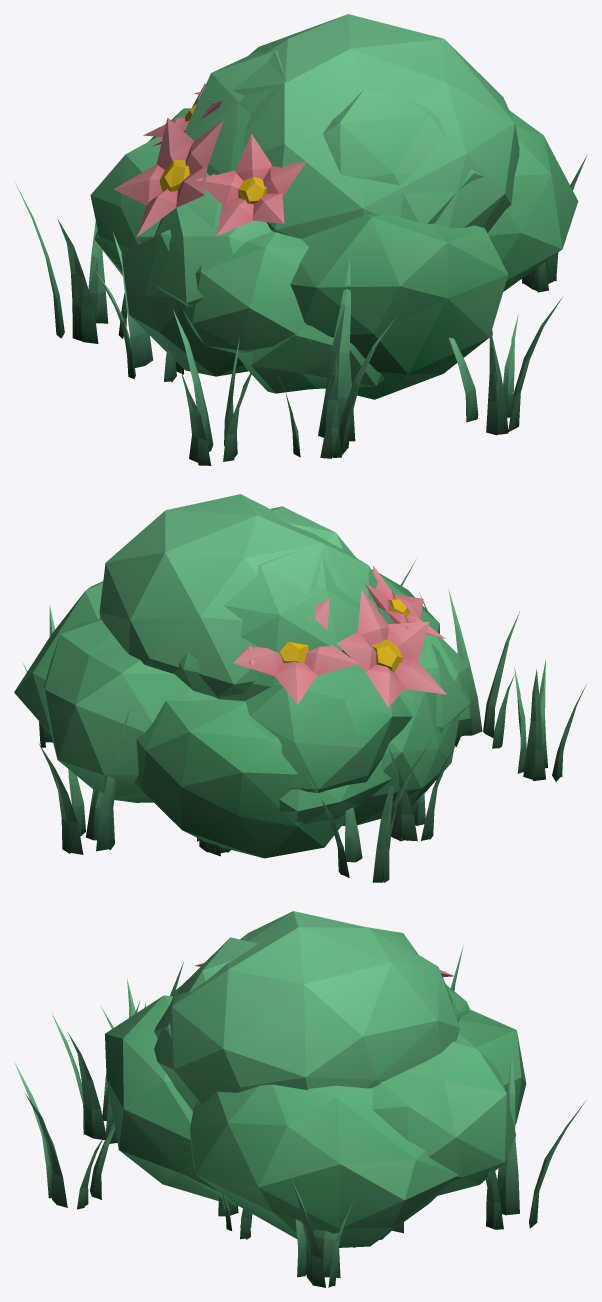
The model's file is vegetasi_bush_hibiscus_77889.glb.
The picture shows the model from 3 angles, top to bottom: view 1: azimuth 30°, elevation 25°; view 2: azimuth 150°, elevation 25°; view 3: azimuth 270°, elevation 25°; orthographic projection. The views are drawn at different scales.
Visible parts, largest first — view 1: Semak_Bunga_Tropis; view 2: Semak_Bunga_Tropis; view 3: Semak_Bunga_Tropis.
Part boxes in pixels (x1,y1,x2,y2): Semak_Bunga_Tropis: [14, 14, 587, 465]; Semak_Bunga_Tropis: [14, 494, 586, 882]; Semak_Bunga_Tropis: [14, 911, 586, 1287].
Size of the model in its own units: 2.95 by 1.73 by 3.25.
